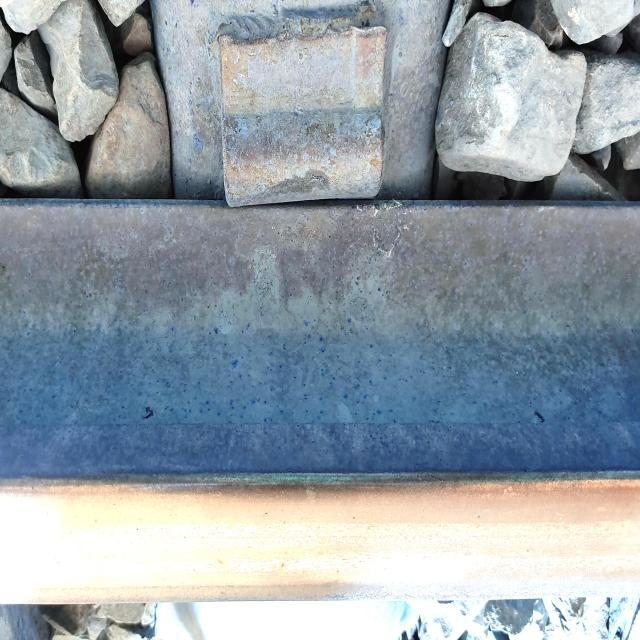Missing Fastener: (205, 0, 404, 249)
